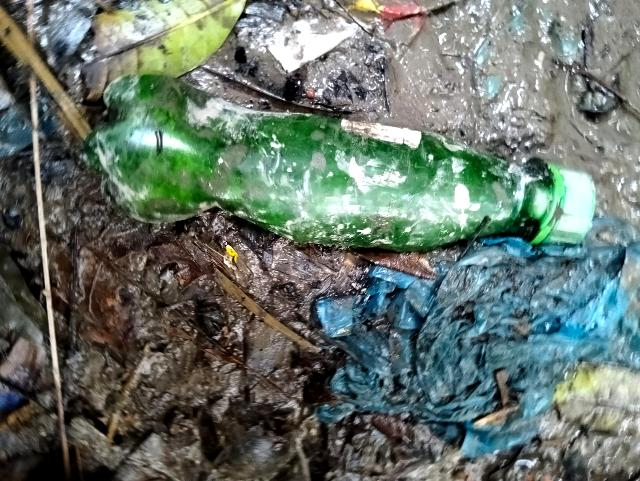bottle: (87, 69, 599, 273)
